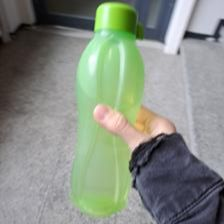bottle: (68, 2, 145, 218)
